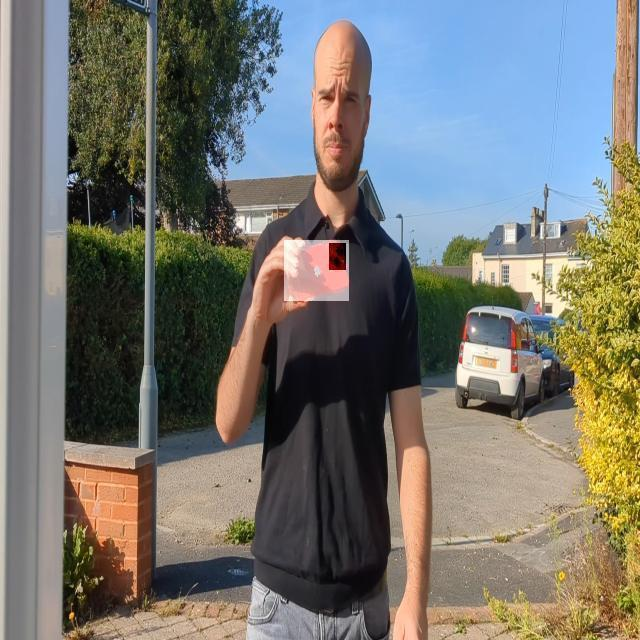Mobile: (284, 240, 349, 301)
